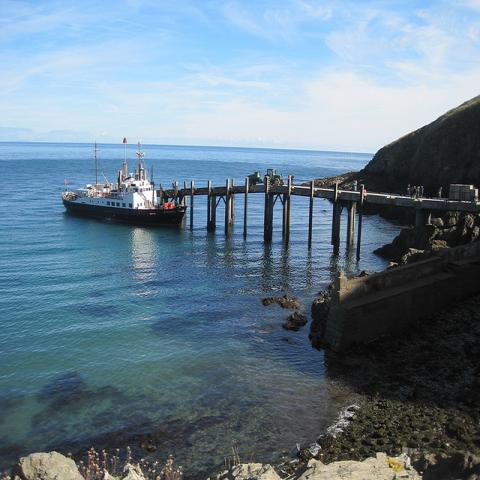truck: (247, 169, 284, 185)
